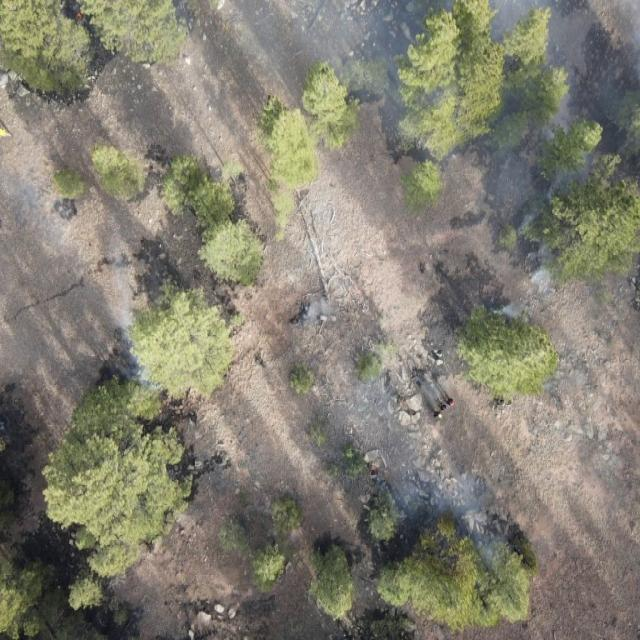fire: (70, 5, 84, 23)
smoke: (220, 0, 640, 138), (0, 183, 155, 391), (361, 406, 510, 565), (468, 136, 584, 284), (299, 296, 338, 328)
